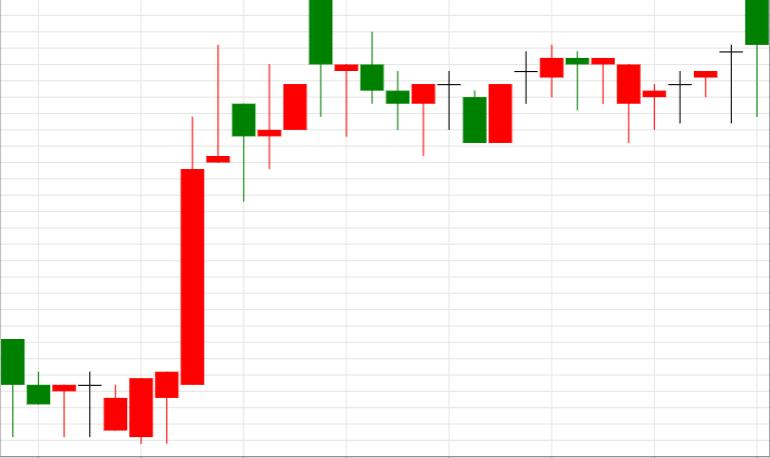hanging_man_fall: (104, 45, 254, 444), (616, 1, 769, 143)
